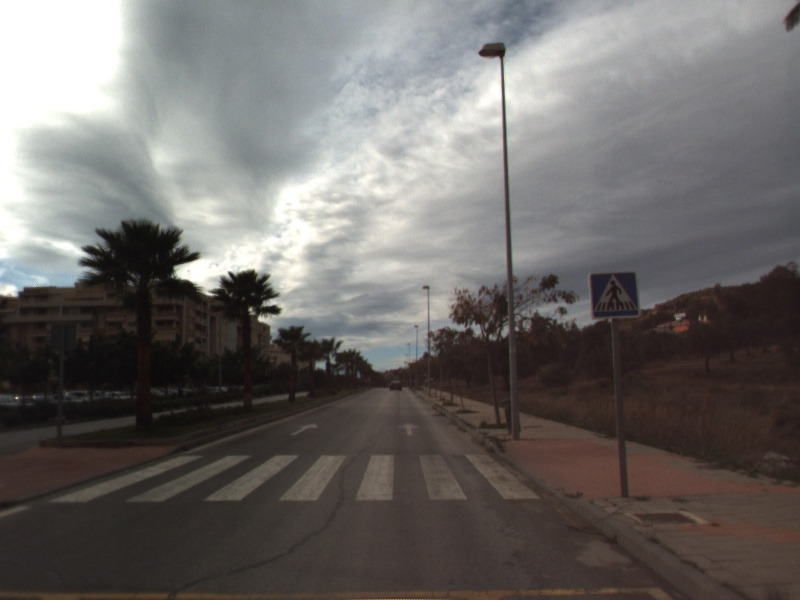STRAIGHT: (288, 421, 320, 437), (396, 420, 421, 437)
